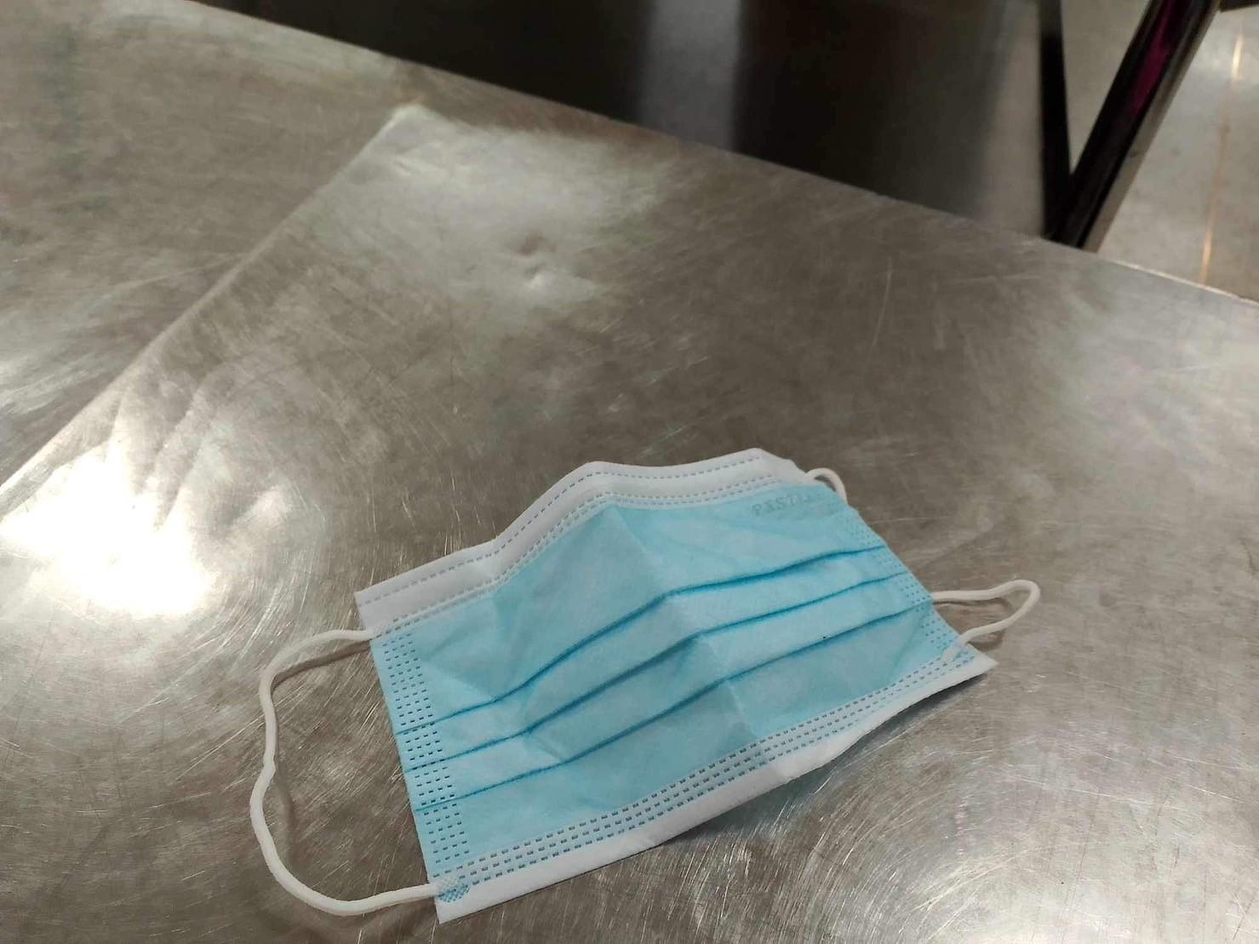General: (247, 444, 1042, 927)
